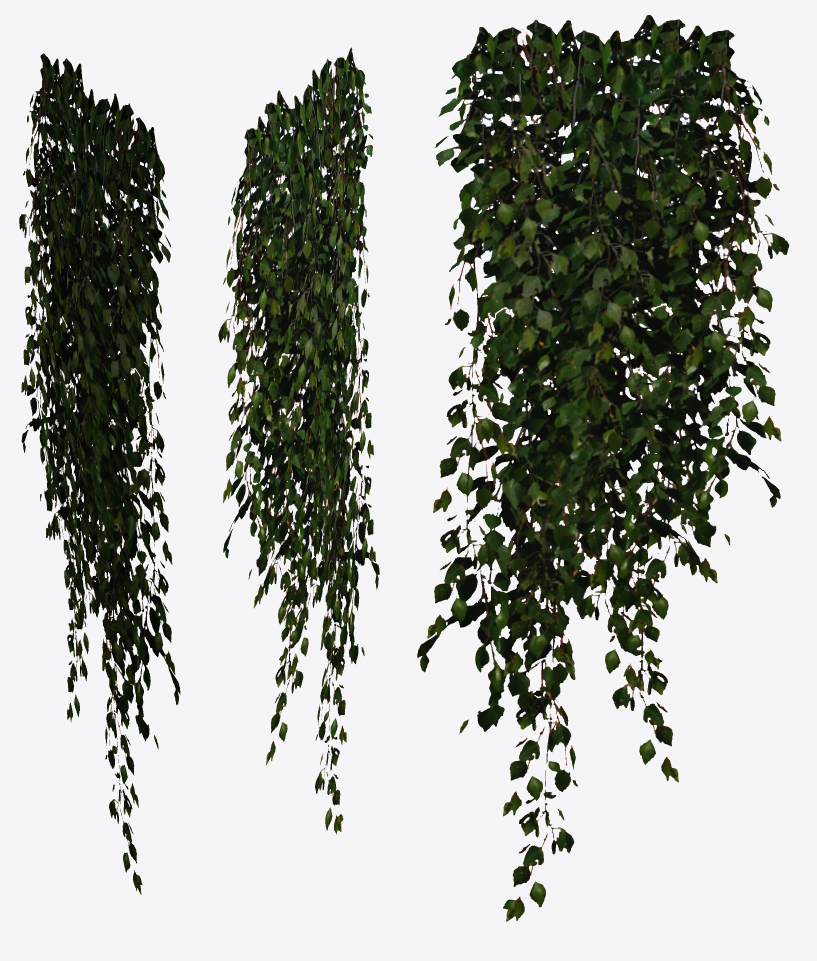
Rendered from MOD_Foliage_04.fbx.
3 views of the same model, side by side, from view 1: azimuth 30°, elevation 25°; view 2: azimuth 150°, elevation 25°; view 3: azimuth 270°, elevation 25° (orthographic). The views are drawn at different scales.
Visible parts, largest first — view 1: MOD_Foliage_04; view 2: MOD_Foliage_04; view 3: MOD_Foliage_04.
Part boxes in pixels (x1,y1,x2,y2): MOD_Foliage_04: [19, 53, 180, 894]; MOD_Foliage_04: [218, 47, 379, 834]; MOD_Foliage_04: [417, 15, 789, 921].
Size of the model in its own units: 12.44 by 601 by 229.
